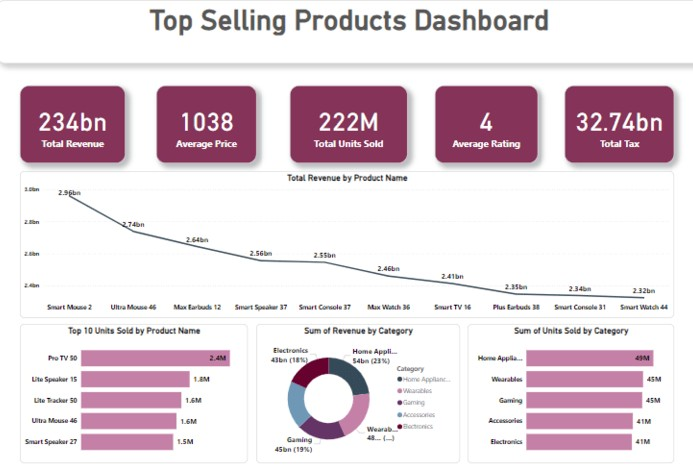

Layout of this report page (visuals, bound fields, positions):
{"tool":"powerbi","page":{"name":"Page 1","canvas":[1500,1050],"ordinal":0},"visuals":[{"type":"card","title":"Total Unit Sold","fields":{"Values":["Sheet1.TotalUnitsSold"]},"box":[624.1,181.5,250,164.8],"z":0},{"type":"card","title":"Avg Price","fields":{"Values":["Sheet1.AvgPrice"]},"box":[340.7,181.5,213,164.8],"z":1000},{"type":"card","title":"Avg Rating","fields":{"Values":["Sheet1.AvgRating"]},"box":[933.3,181.5,218.5,164.8],"z":2000},{"type":"card","title":"Total Tax","fields":{"Values":["Sheet1.Total Tax"]},"box":[1207.4,181.5,233.3,164.8],"z":3000},{"type":"lineChart","title":"Total Revenue by Product Name","fields":{"Category":["Sheet1.Product Name"],"Y":["Sum(Sheet1.Revenue)"]},"box":[51,363.3,1389.8,312.2],"z":4000},{"type":"barChart","title":"Top 10 Units Sold by Product Name","fields":{"Category":["Sheet1.Product Name"],"Y":["Sum(Sheet1.Units Sold)"]},"box":[51,687.8,483.7,295.9],"z":5000},{"type":"donutChart","fields":{"Y":["Sum(Sheet1.Revenue)"],"Category":["Sheet1.Category"]},"box":[553.1,687.8,432.7,295.9],"z":6000},{"type":"barChart","fields":{"Category":["Sheet1.Category"],"Y":["Sum(Sheet1.Units Sold)"]},"box":[1002,687.8,438.8,295.9],"z":7000},{"type":"textbox","title":"Top Selling Products Dashboard","box":[0,0,1500,135.2],"z":8000},{"type":"card","fields":{"Values":["Sheet1.TotalRevenue"]},"box":[50,181.5,224.1,164.8],"z":9000}]}

Visuals, with their boxes on the page's 1500x1050 design canvas (x1, y1, x2, y2). These are canvas units, not pixel positions in the 693x467 screenshot, which may show the page scaled, cropped or inside an application window:
"Total Unit Sold" card: region(624, 182, 874, 346)
"Avg Price" card: region(341, 182, 554, 346)
"Avg Rating" card: region(933, 182, 1152, 346)
"Total Tax" card: region(1207, 182, 1441, 346)
"Total Revenue by Product Name" lineChart: region(51, 363, 1441, 676)
"Top 10 Units Sold by Product Name" barChart: region(51, 688, 535, 984)
donutChart - Sum(Sheet1.Revenue) x Sheet1.Category: region(553, 688, 986, 984)
barChart - Sheet1.Category x Sum(Sheet1.Units Sold): region(1002, 688, 1441, 984)
"Top Selling Products Dashboard" textbox: region(0, 0, 1500, 135)
card - Sheet1.TotalRevenue: region(50, 182, 274, 346)
